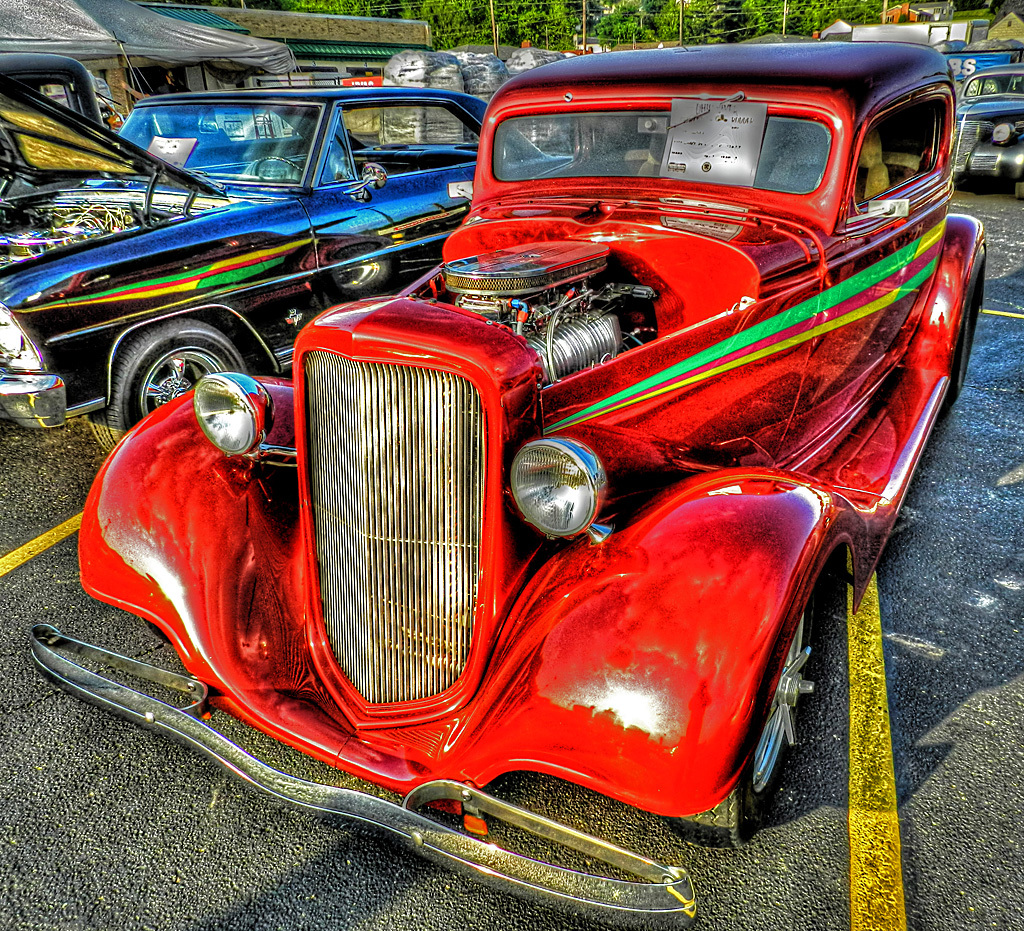Car: (28, 29, 990, 930), (0, 58, 579, 462), (0, 51, 124, 200), (949, 69, 1022, 200)
